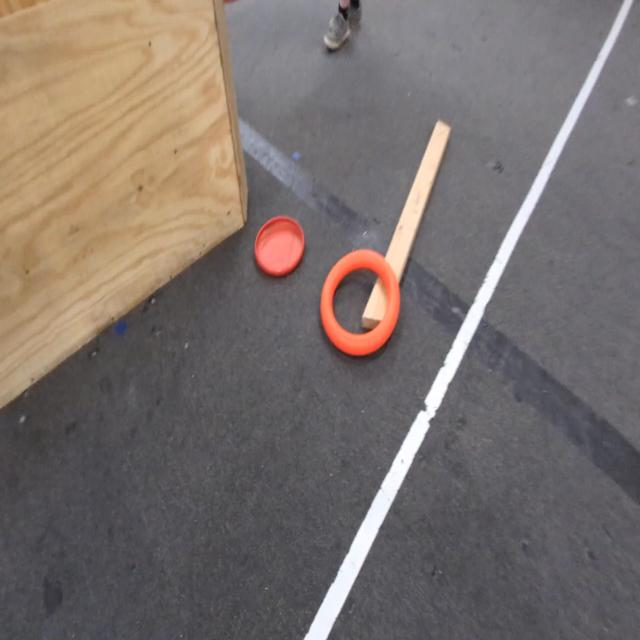note: (319, 254, 400, 358)
